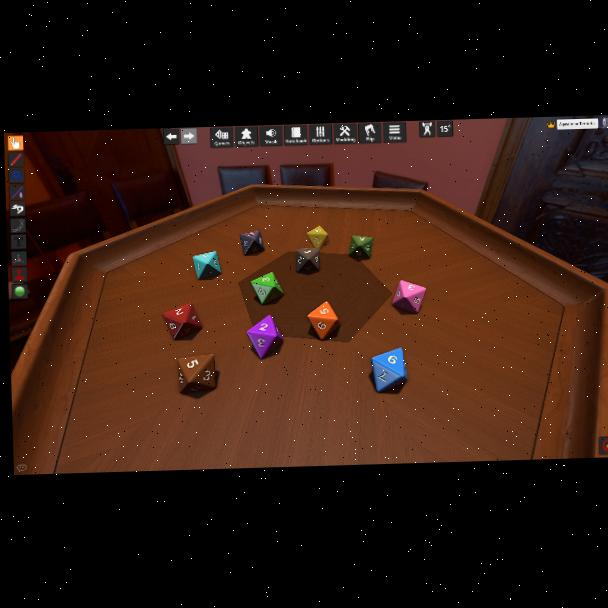d8: (246, 315, 283, 360), (371, 347, 406, 392), (178, 355, 217, 394), (163, 302, 202, 340), (391, 278, 425, 314), (307, 302, 339, 340), (250, 273, 284, 305), (192, 251, 220, 280), (347, 235, 372, 260), (296, 247, 320, 273), (240, 230, 263, 256), (306, 226, 328, 250)
